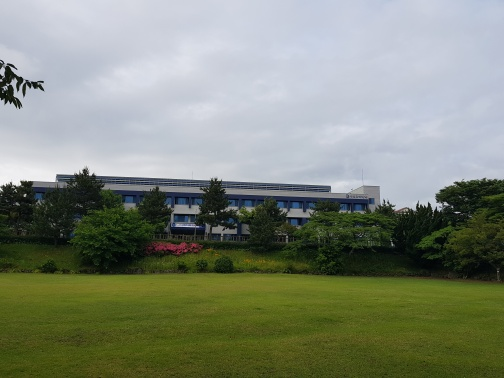College of Social Sciences: (27, 165, 384, 239)
